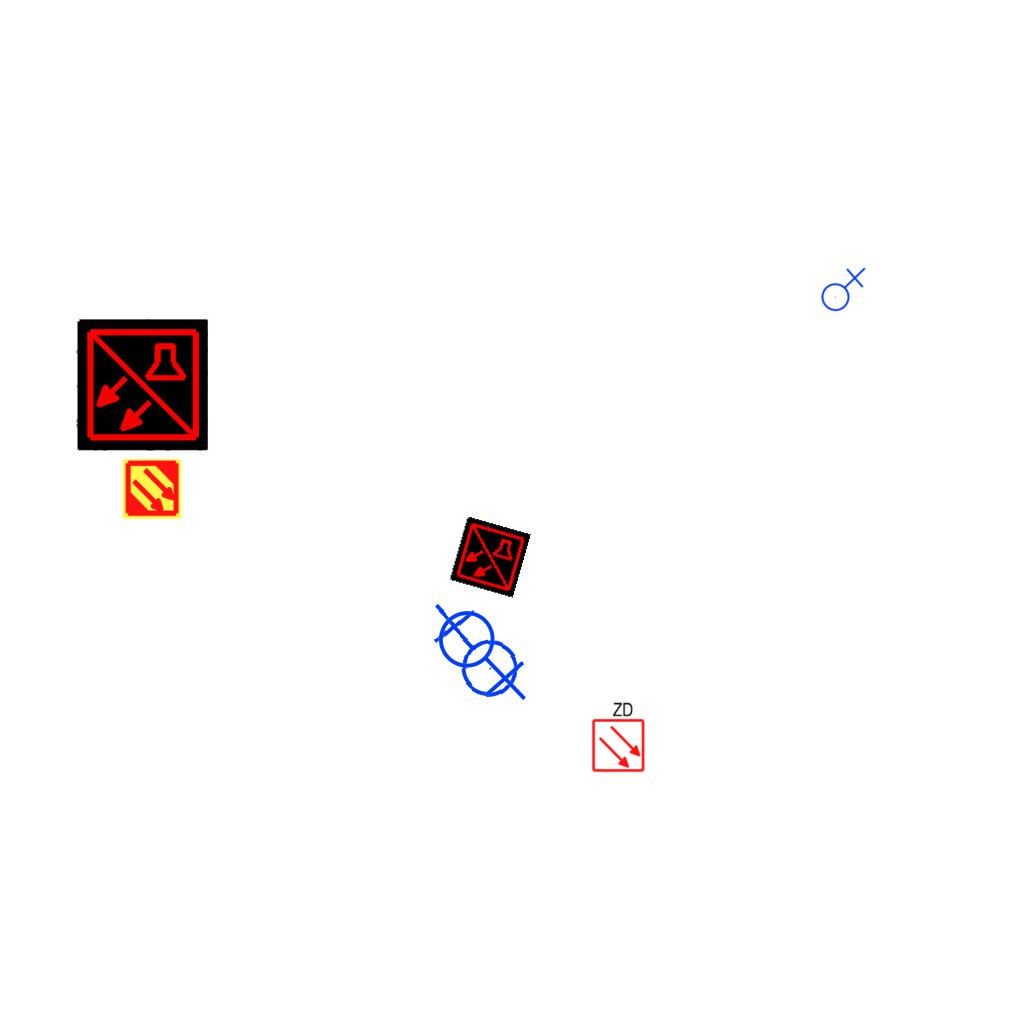ASR_Ansaugrauchmelder: (121, 458, 183, 520)
Elektroanschluss_allgemein_230V_Geraeteanschlussdose_230V: (423, 602, 524, 708), (437, 602, 531, 701), (817, 265, 866, 312)
OKW_Multisensormelder_(Kombination_optischer_Rauch-Kahlenmonoxid_Waerme-Melder): (76, 319, 208, 451), (449, 516, 531, 598)
ZD_Melder_in_Zwischendecke_mit_Revisionsoeffnung_mind_40_x_40_cm: (589, 699, 646, 773)
